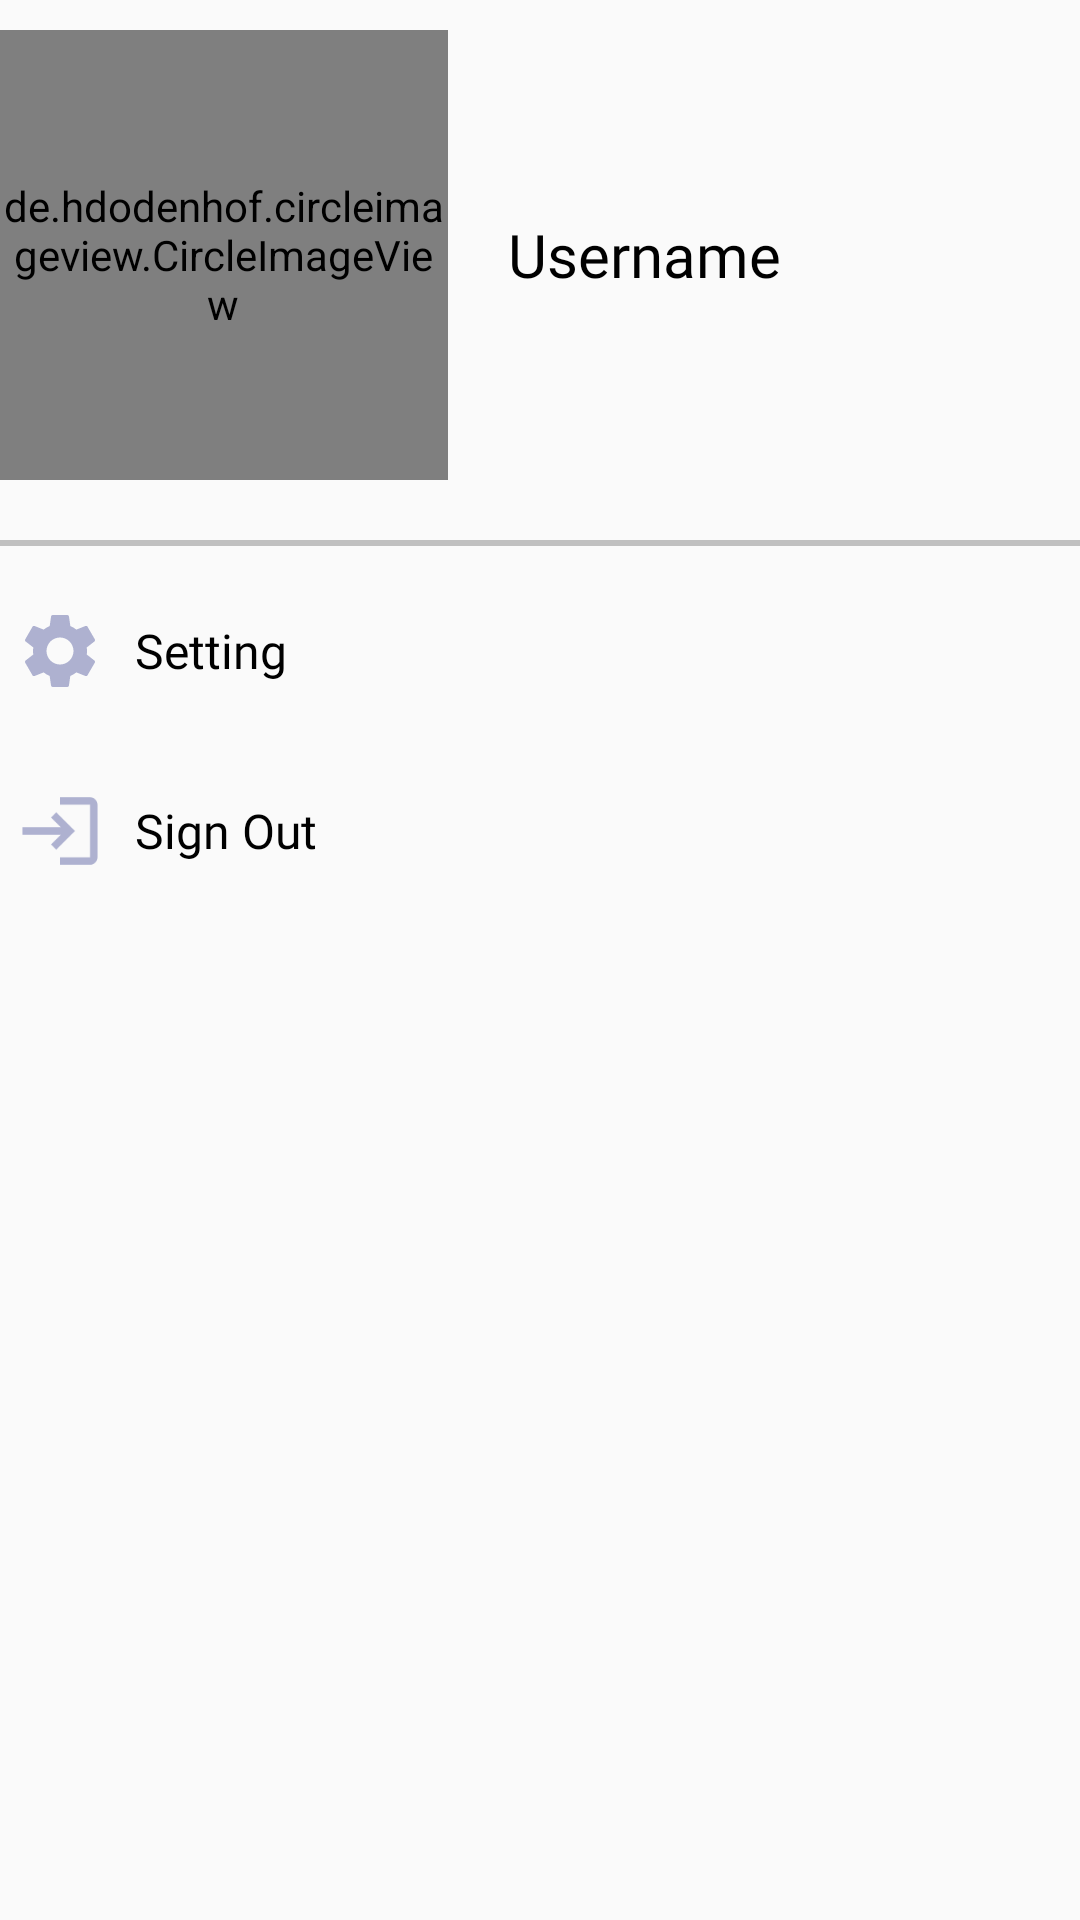

Icons on this 1080×1920 Android screen, each with its box as bbox=[x1, y1, x2, y2]:
login: bbox=[22, 797, 98, 865]
